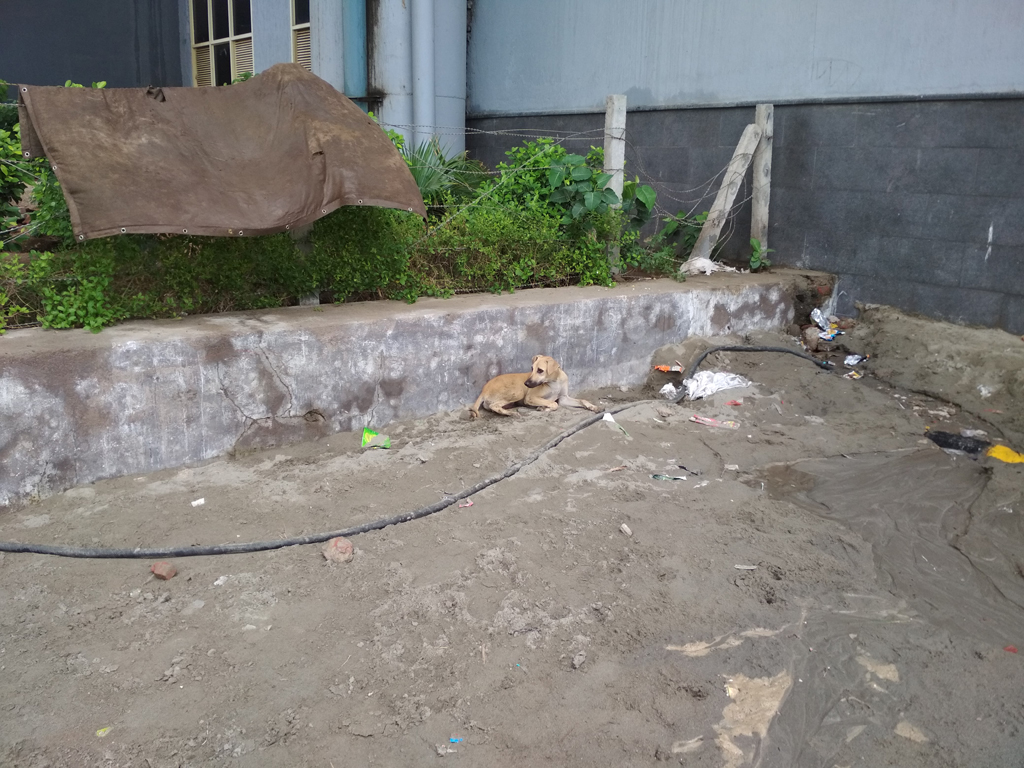dog: (466, 356, 592, 421)
